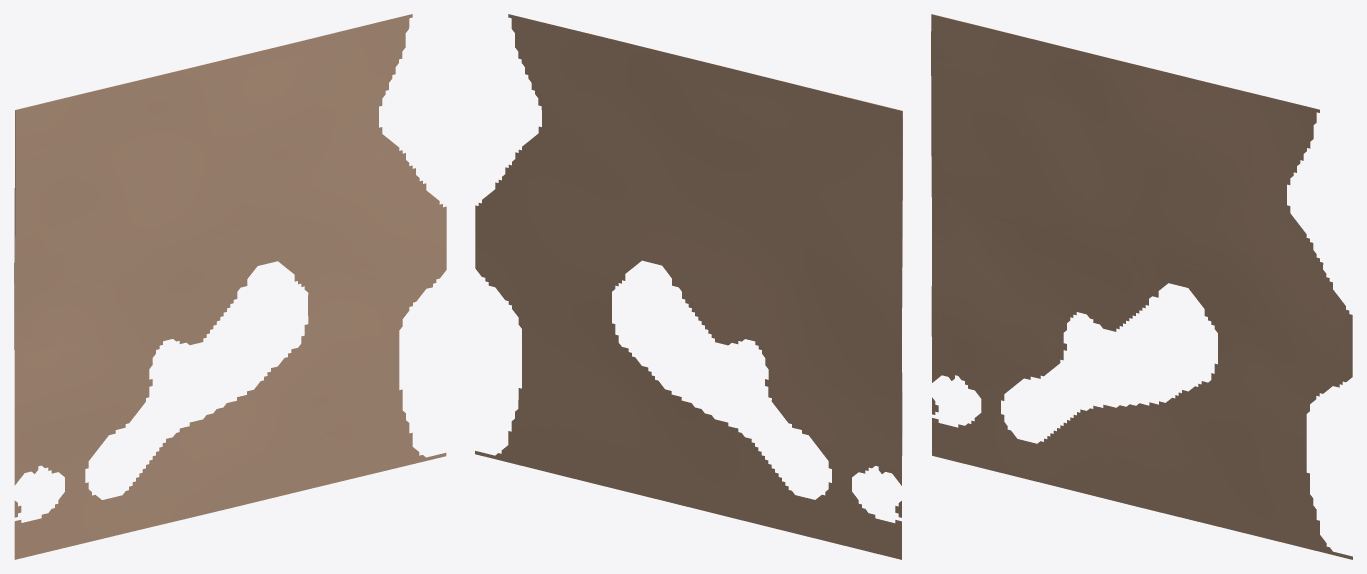
Rendered from L06_shell.glb.
3 renders of one model, left to right at view 1: azimuth 30°, elevation 25°; view 2: azimuth 150°, elevation 25°; view 3: azimuth 330°, elevation 25°, orthographic.
Parts seen in each view (by area): view 1: world; view 2: world; view 3: world.
Boxes of the visible parts, bbox=[...] form: world: bbox=[14, 14, 446, 559]; world: bbox=[475, 14, 902, 559]; world: bbox=[931, 14, 1352, 559].
Bounding box in the file's own units: 12800 × 12800 × 108.
